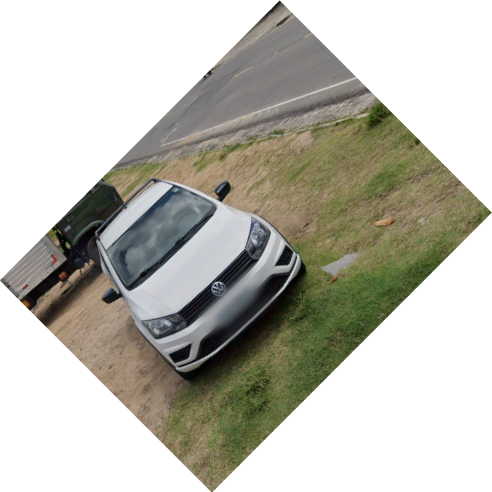car: (90, 173, 314, 384)
